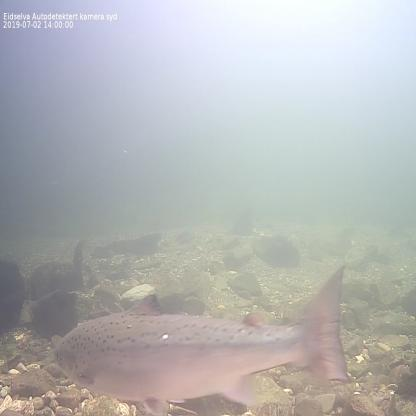salmon: (49, 260, 356, 416)
